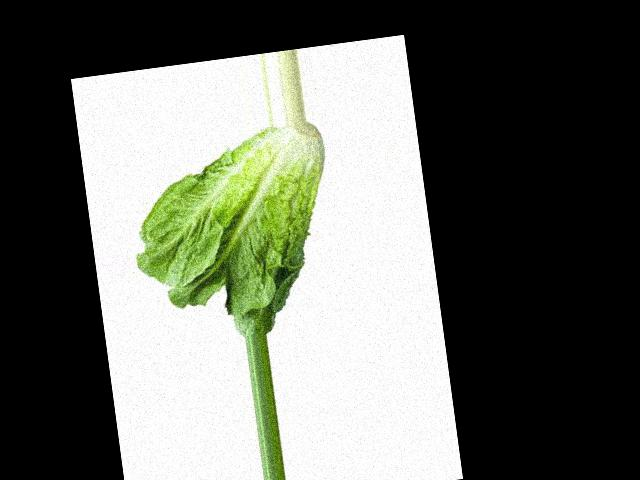lettuce: (192, 126, 298, 245)
